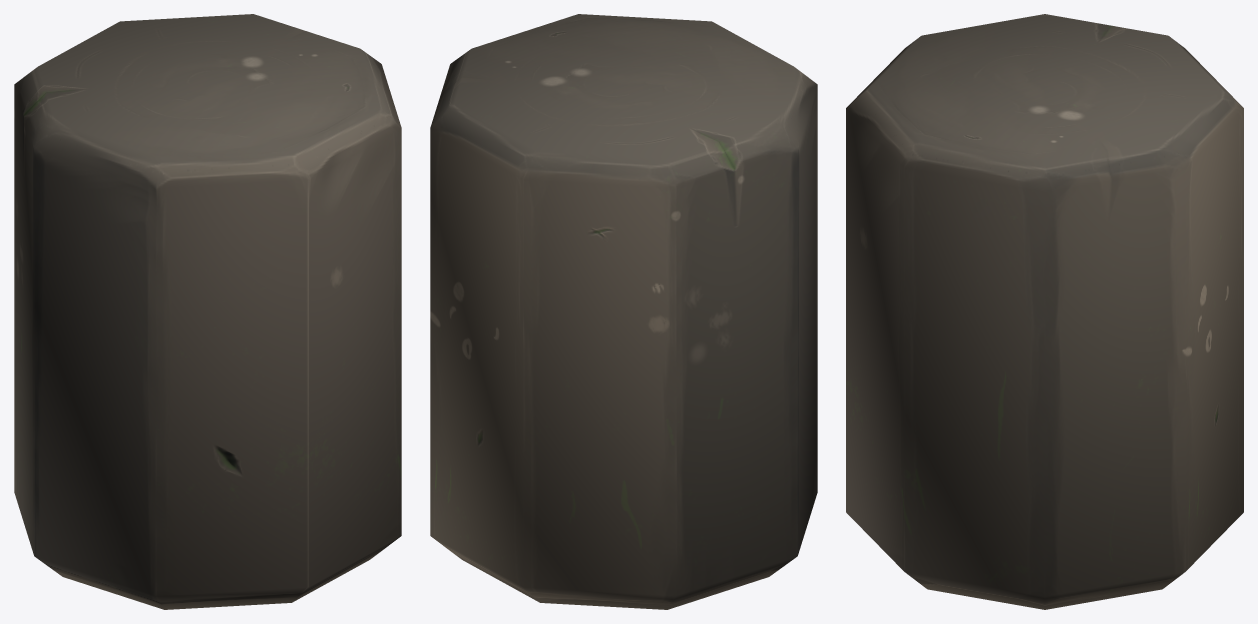
File: SM_Small_Rock_5_JFG.fbx
The picture shows the model from 3 angles, left to right: view 1: azimuth 30°, elevation 25°; view 2: azimuth 150°, elevation 25°; view 3: azimuth 270°, elevation 25°; orthographic projection.
Visible parts, largest first — view 1: SM_Small_Rock_5_JFG; view 2: SM_Small_Rock_5_JFG; view 3: SM_Small_Rock_5_JFG.
Boxes of the visible parts, x1=… form: SM_Small_Rock_5_JFG: x1=14, y1=14, x2=401, y2=609; SM_Small_Rock_5_JFG: x1=430, y1=14, x2=817, y2=609; SM_Small_Rock_5_JFG: x1=846, y1=14, x2=1243, y2=609.
Bounding box in the file's own units: 0.3536 × 0.443 × 0.3536.
